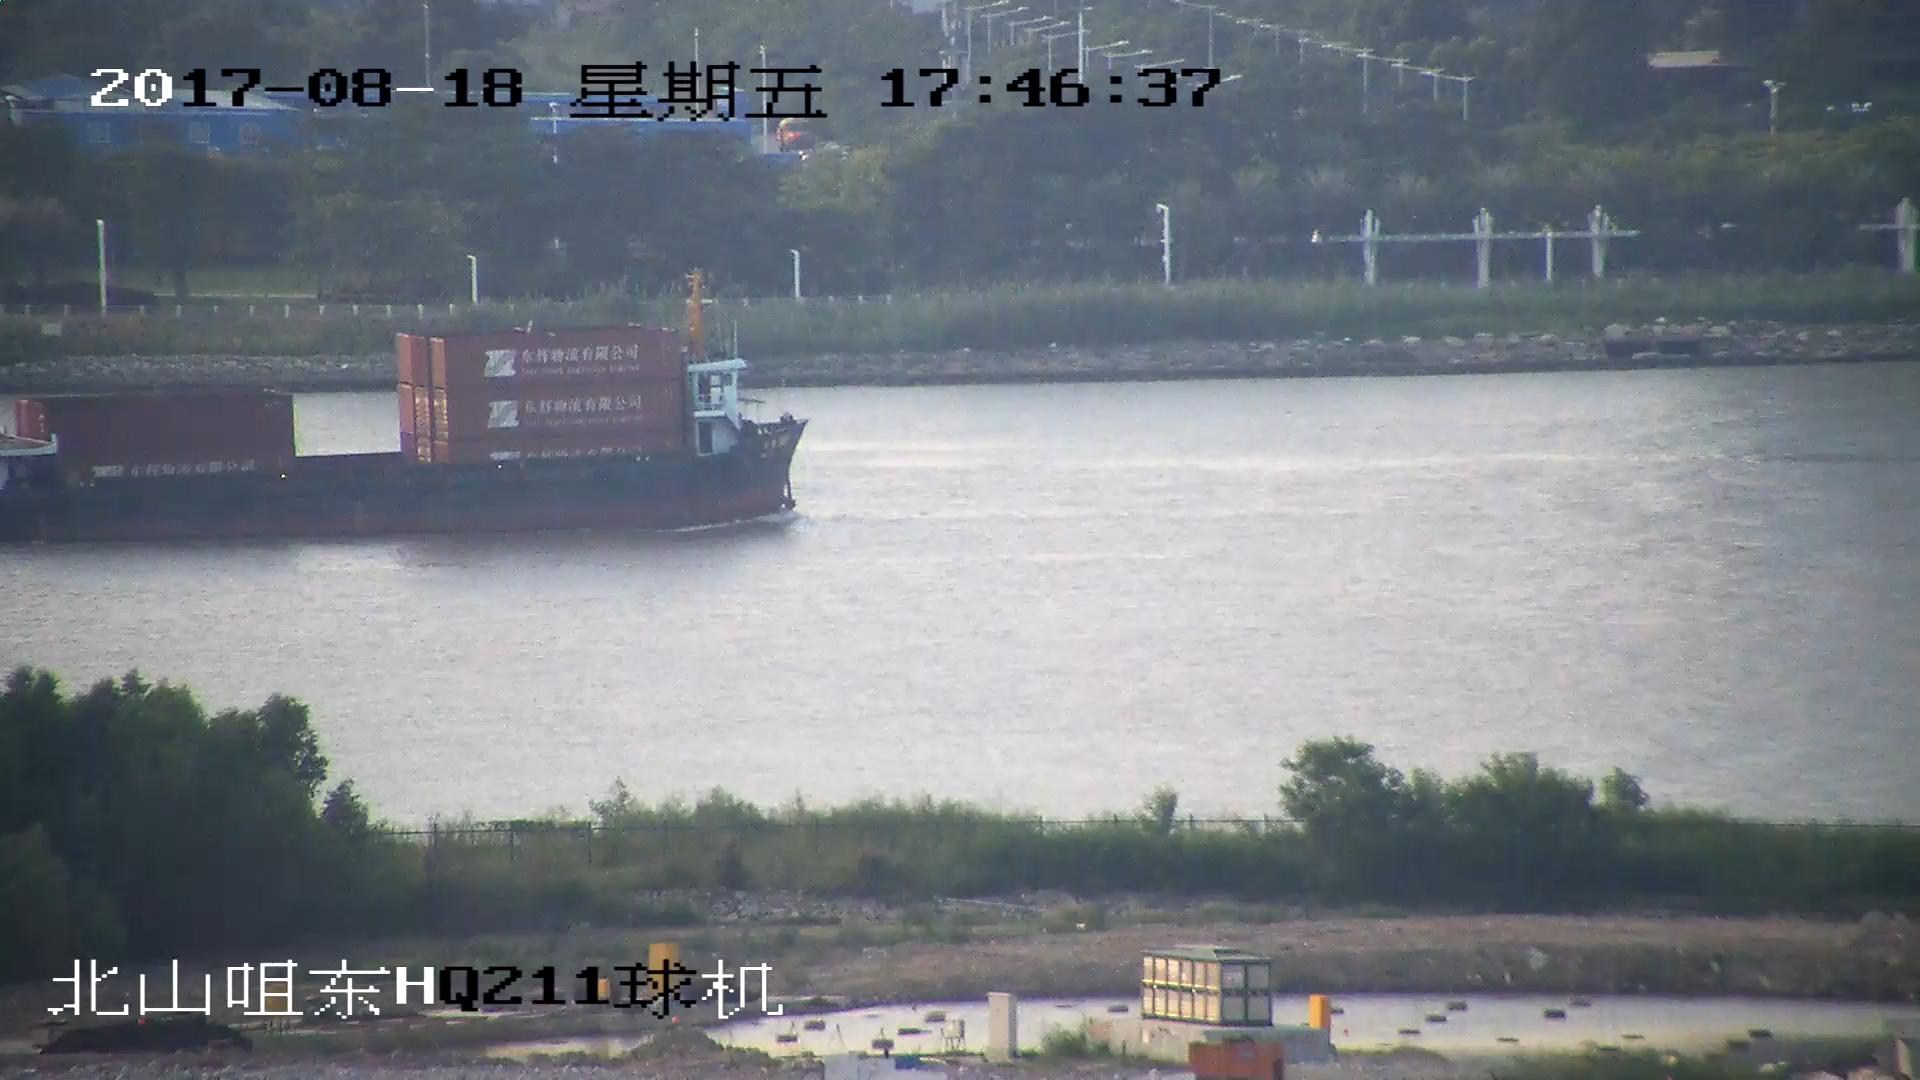container ship: (1, 267, 808, 533)
